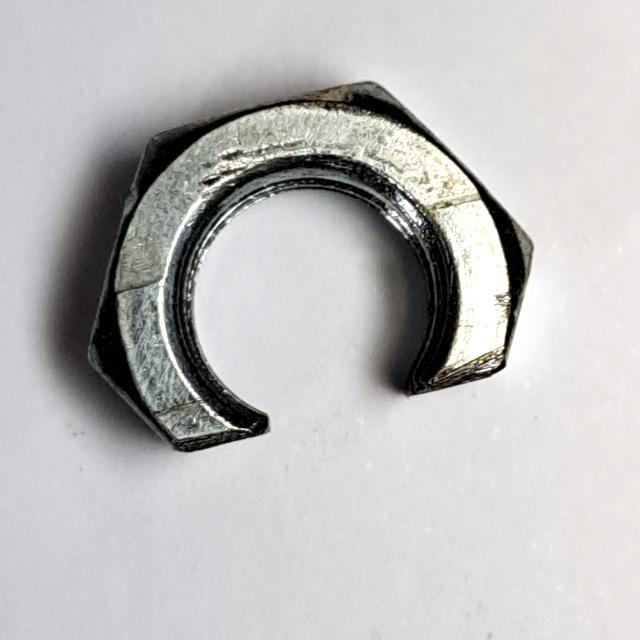Fracture: (68, 68, 542, 464)
